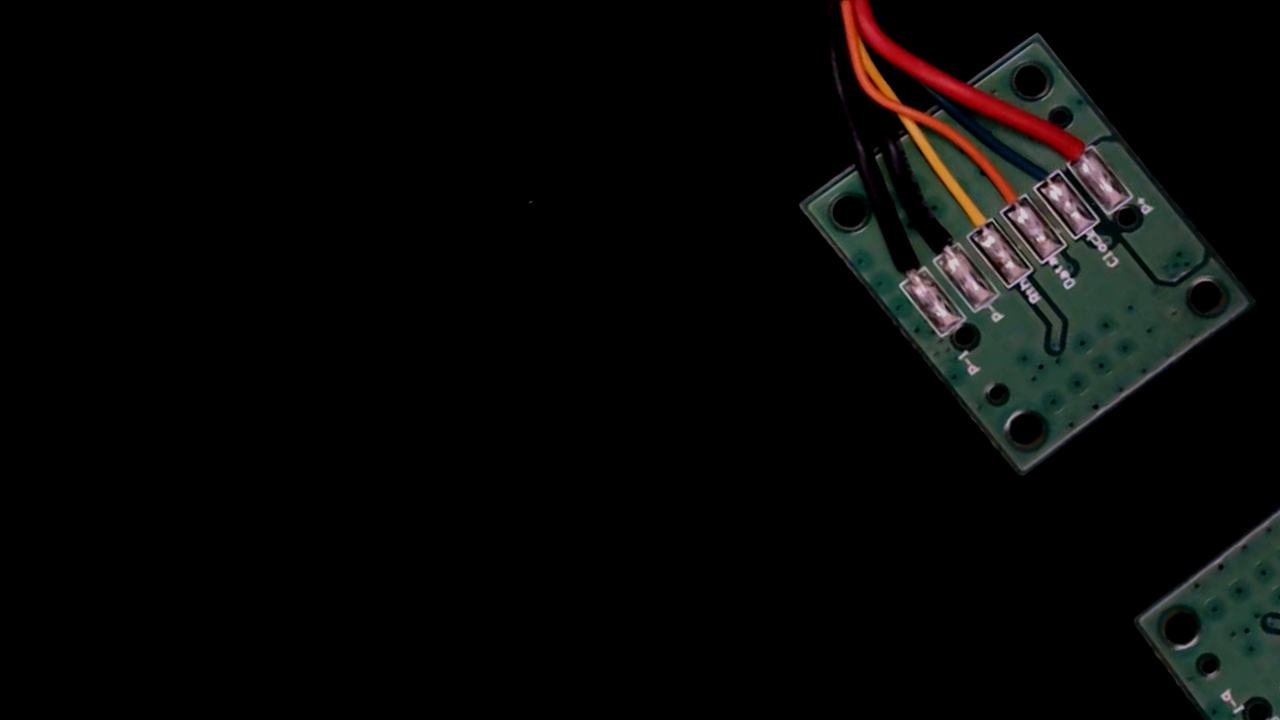Black: (901, 200, 972, 274)
Black1: (864, 225, 937, 302)
Green: (1004, 134, 1072, 204)
Orange: (973, 159, 1040, 228)
Red: (1030, 101, 1105, 178)
Yellow: (938, 179, 1007, 251)
